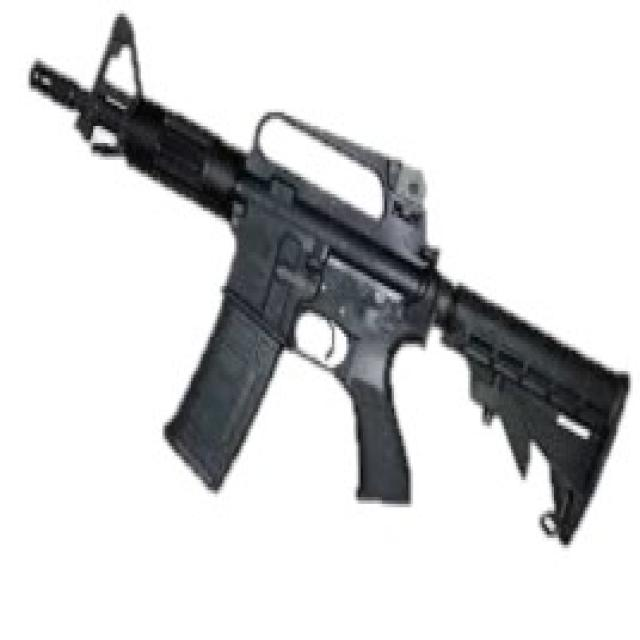rifle: (22, 12, 637, 553)
